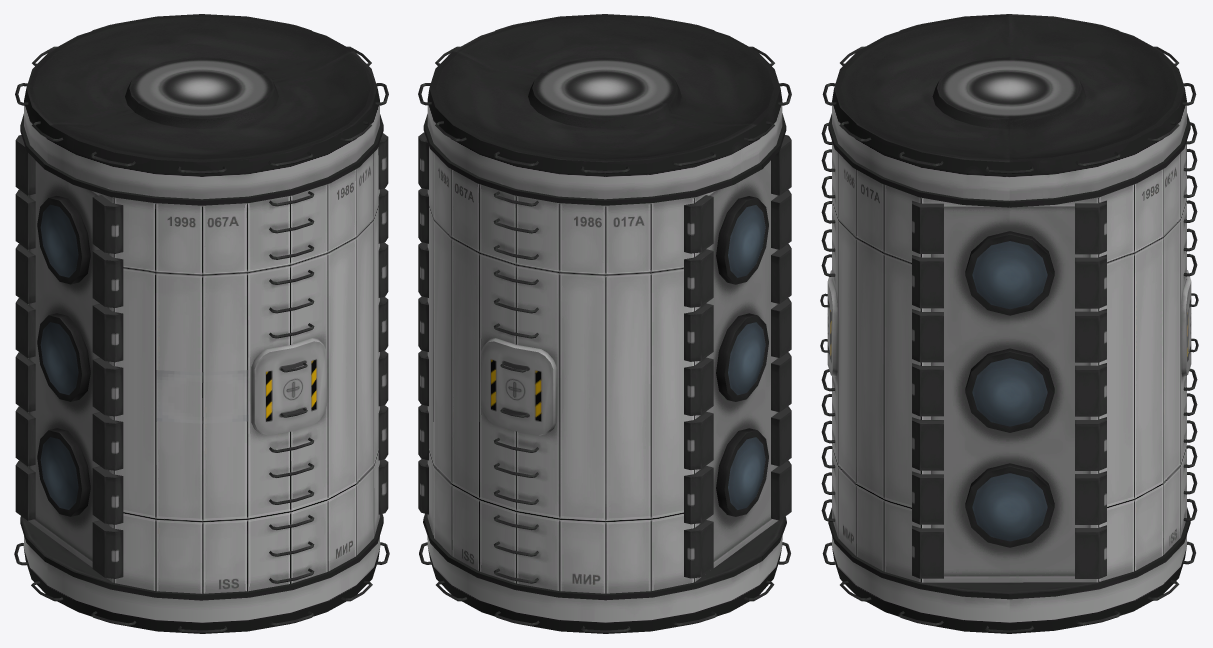
The model's file is Large_Crew_Lab.glb.
3 renders of one model, left to right at view 1: azimuth 30°, elevation 25°; view 2: azimuth 150°, elevation 25°; view 3: azimuth 270°, elevation 25°, orthographic.
Parts seen in each view (by area): view 1: Lab, flagTransform; view 2: Lab; view 3: Lab.
Boxes of the visible parts, x1,y1,x2,y2 form: Lab: (14, 14, 389, 633); flagTransform: (156, 370, 248, 422); Lab: (418, 14, 791, 633); Lab: (820, 14, 1198, 633).
Bounding box in the file's own units: 2.64 × 3.66 × 2.66.
Materials: 2 (2 with a texture image).
